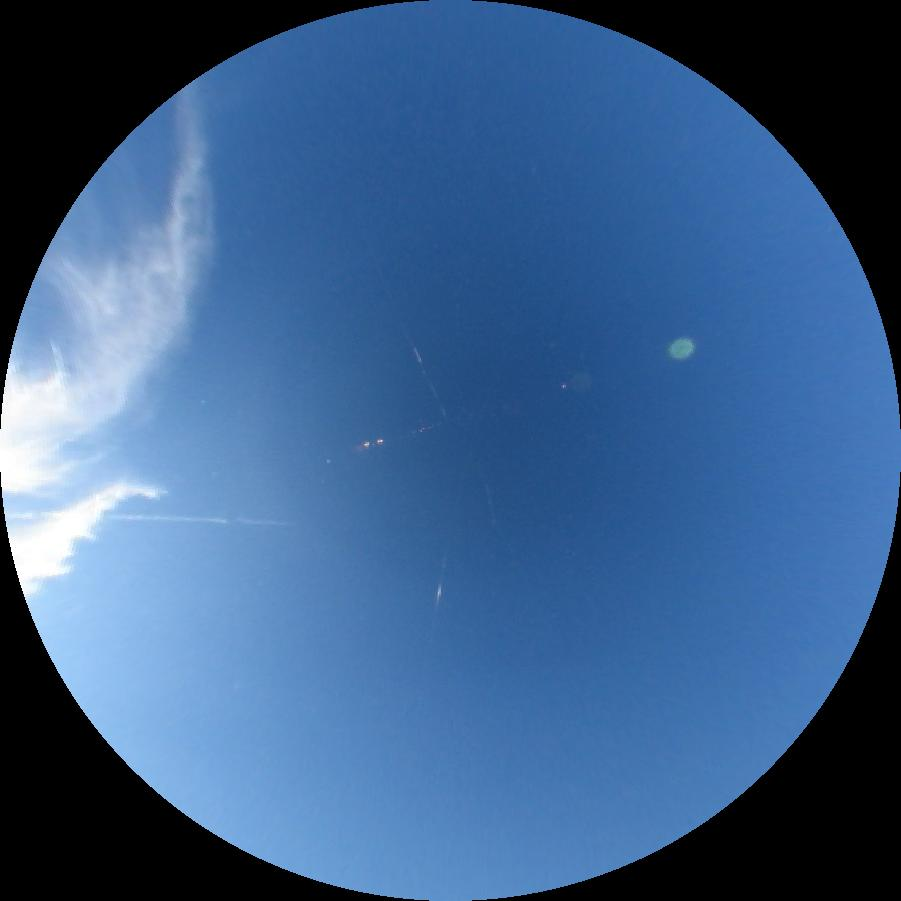parasite: (6, 512, 296, 526), (407, 340, 448, 421), (428, 549, 447, 637)
